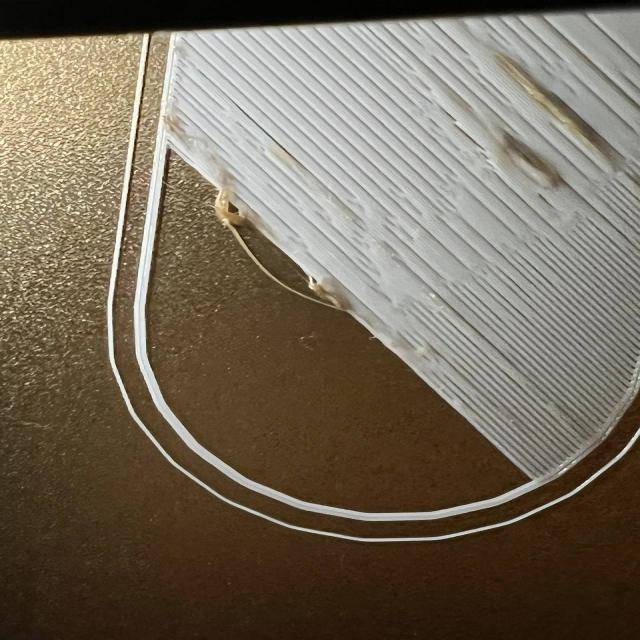blobs: (207, 179, 244, 234), (303, 278, 337, 308)
